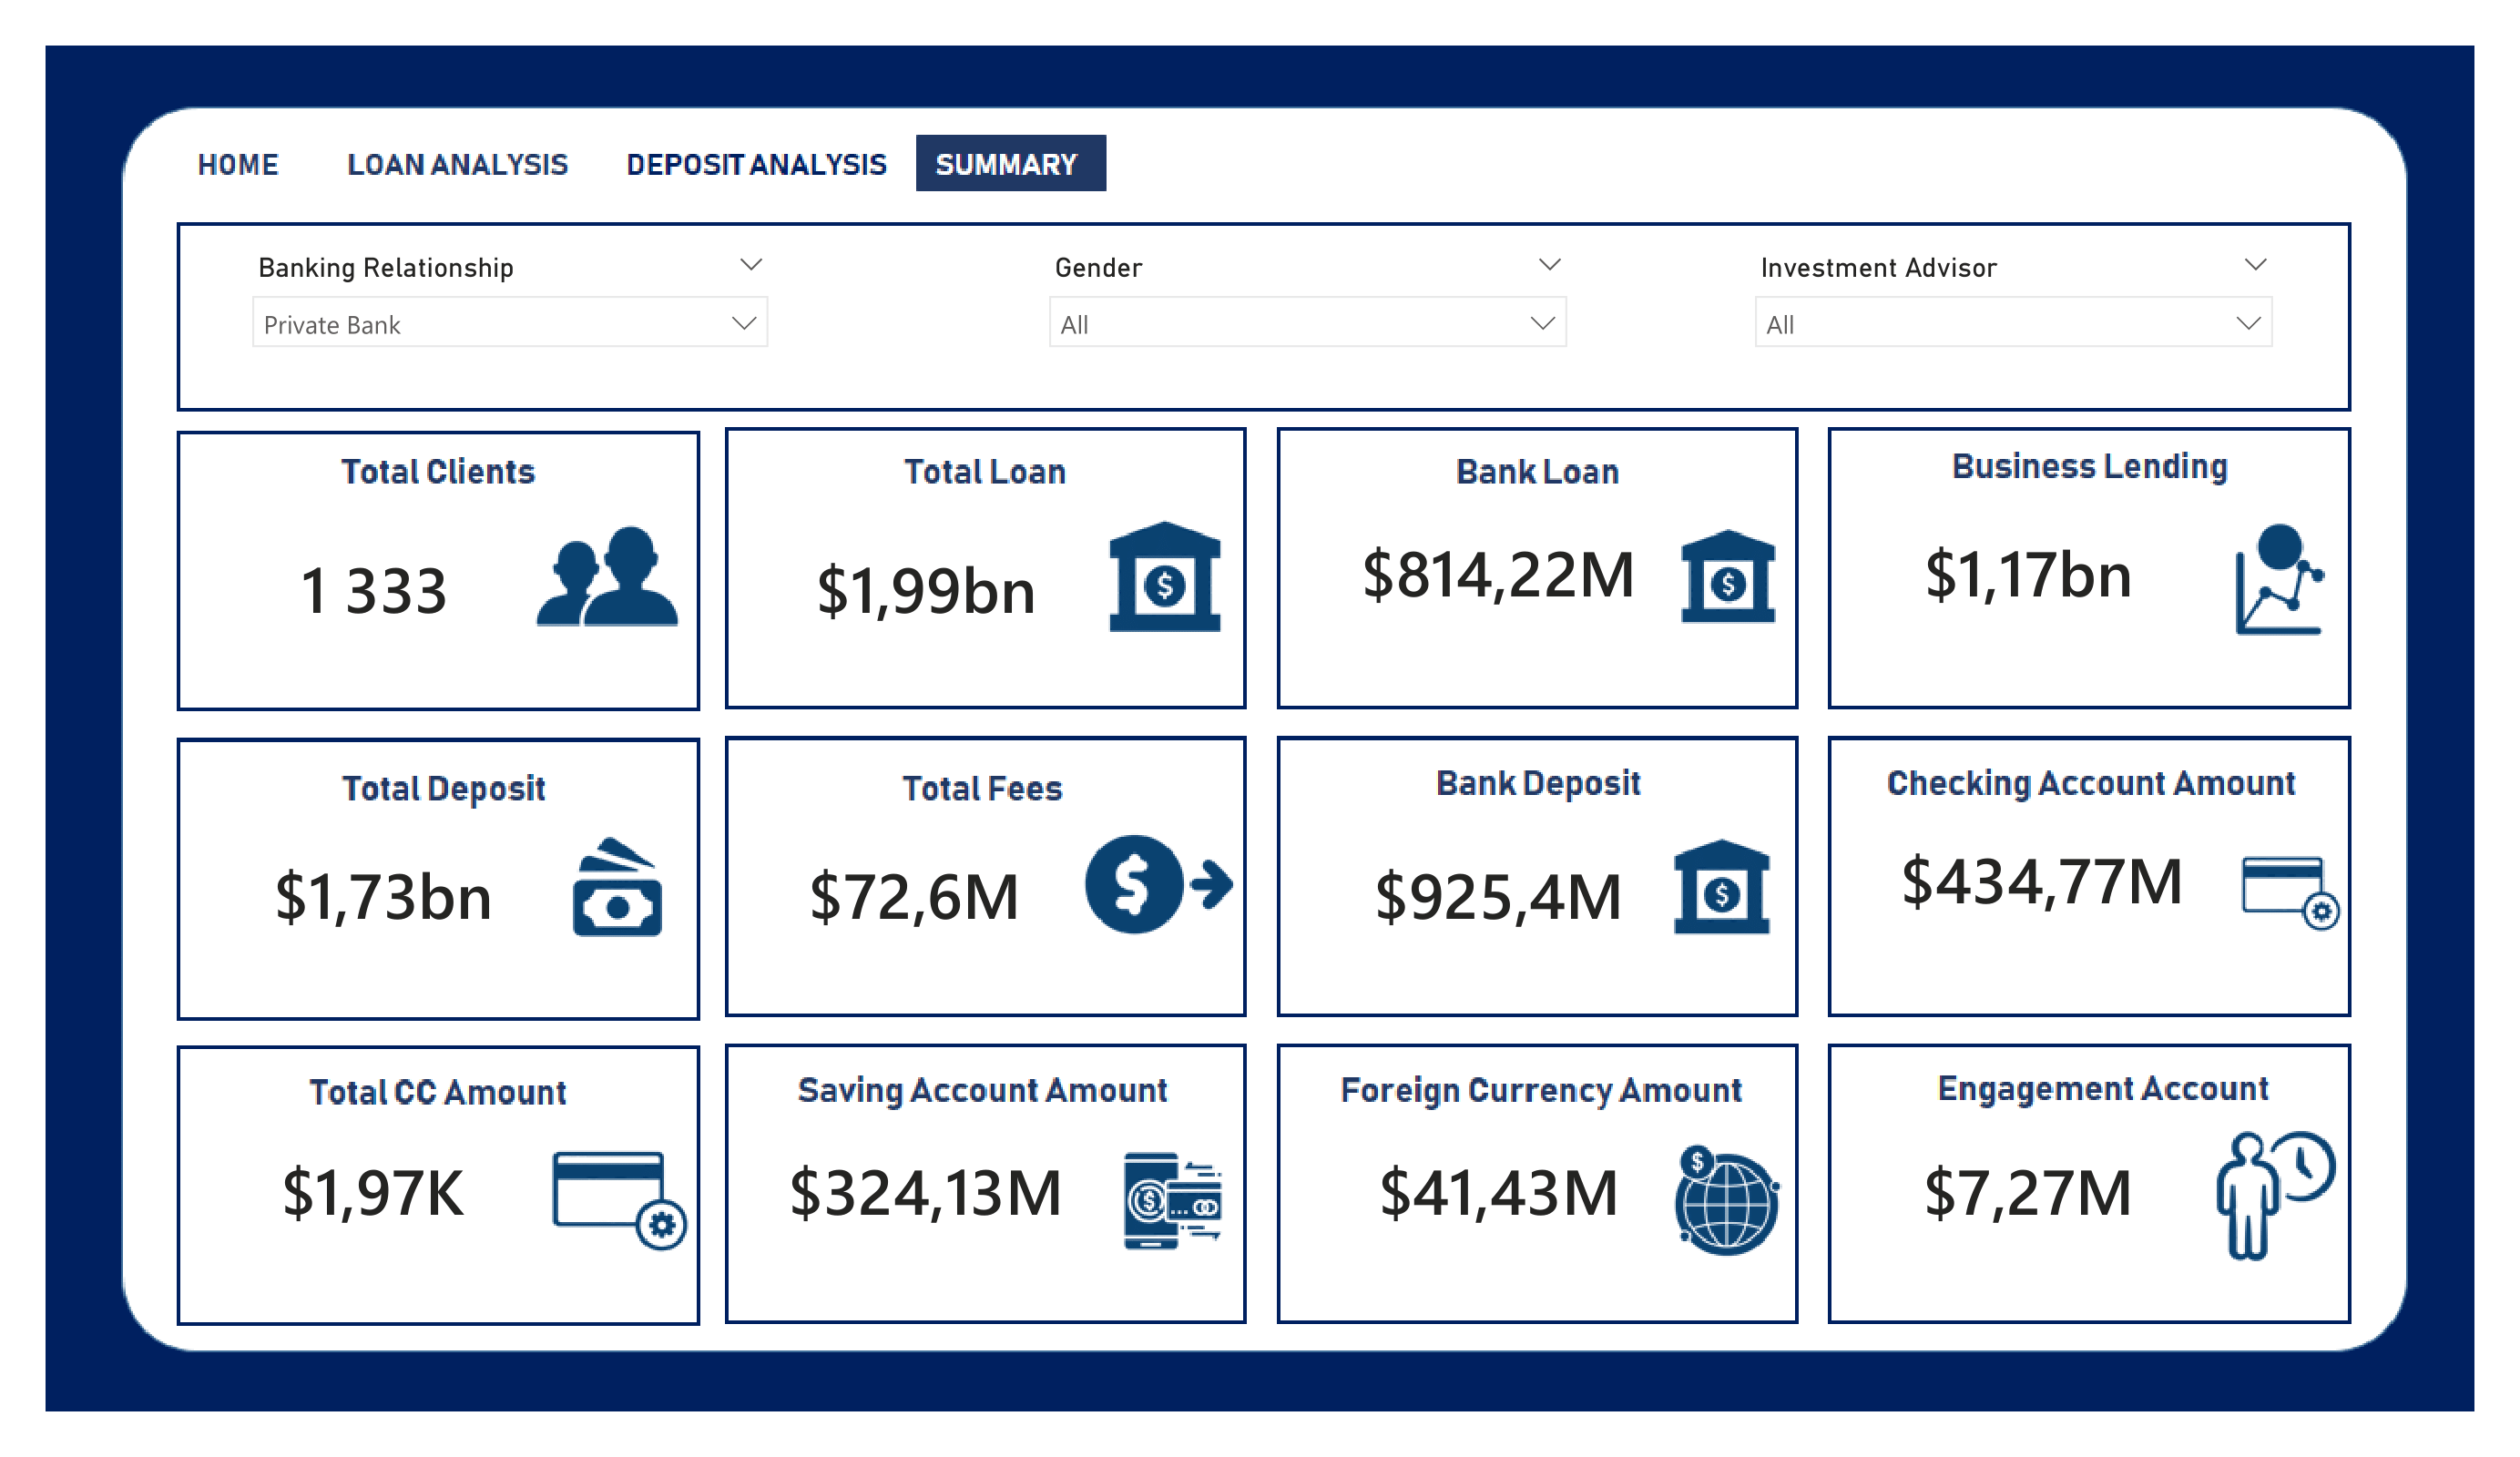

This screenshot's page, from the dashboard's own definition file:
{"tool":"powerbi","page":{"name":"Summary","canvas":[1280,720],"ordinal":3},"visuals":[{"type":"card","fields":{"Values":["DAX Measures.Engagment Length"]},"box":[946.3,546.4,198.2,114.9],"z":0},{"type":"card","fields":{"Values":["DAX Measures.Foreign Currency Account"]},"box":[667.2,546.4,198.2,114.9],"z":1000},{"type":"card","fields":{"Values":["DAX Measures.Bank Deposit"]},"box":[667.2,390.5,198.2,114.9],"z":2000},{"type":"card","fields":{"Values":["DAX Measures.Checking Accounts"]},"box":[953.4,382.3,198.2,114.9],"z":3000},{"type":"card","fields":{"Values":["DAX Measures.Bank Loan"]},"box":[667.2,220.5,198.2,114.9],"z":4000},{"type":"card","fields":{"Values":["DAX Measures.Business Lending"]},"box":[953.4,220.5,184.1,114.9],"z":5000},{"type":"card","fields":{"Values":["DAX Measures.Savings Account"]},"box":[360,546.4,207.6,114.9],"z":6000},{"type":"card","fields":{"Values":["DAX Measures.Total CC Amount"]},"box":[72.7,546.4,198.2,114.9],"z":7000},{"type":"card","fields":{"Values":["DAX Measures.Total Deposit"]},"box":[78.6,390.5,198.2,114.9],"z":8000},{"type":"card","fields":{"Values":["DAX Measures.Total Fees"]},"box":[365.9,390.5,184.1,114.9],"z":9000},{"type":"card","fields":{"Values":["DAX Measures.Total Clients"]},"box":[75,228.7,198.2,114.9],"z":10000},{"type":"card","fields":{"Values":["DAX Measures.Total Loan"]},"box":[365.9,228.7,195.8,114.9],"z":11000},{"type":"slicer","fields":{"Values":["Banking Relationship.Banking Relationship"]},"box":[98.5,104.3,292.9,75.7],"z":12000},{"type":"slicer","fields":{"Values":["Gender.Gender"]},"box":[518.9,104.3,292.9,75.7],"z":13000},{"type":"slicer","fields":{"Values":["Investment Advisor.Investment Advisor"]},"box":[891.3,104.3,292.9,75.7],"z":14000},{"type":"actionButton","box":[72.8,44.2,58.5,31],"z":16000},{"type":"actionButton","box":[306.9,44.7,119.4,31],"z":17000},{"type":"actionButton","box":[297.9,44.6,147.8,30.5],"z":18000},{"type":"actionButton","box":[157.1,44.6,125.5,30.5],"z":19000}]}

Visuals, with their boxes on the page's 1280x720 design canvas (x1, y1, x2, y2). These are canvas units, not pixel positions in the 2520x1457 screenshot, which may show the page scaled, cropped or inside an application window:
card - DAX Measures.Engagment Length: pyautogui.locateOnScreen(946, 546, 1144, 661)
card - DAX Measures.Foreign Currency Account: pyautogui.locateOnScreen(667, 546, 865, 661)
card - DAX Measures.Bank Deposit: pyautogui.locateOnScreen(667, 390, 865, 505)
card - DAX Measures.Checking Accounts: pyautogui.locateOnScreen(953, 382, 1152, 497)
card - DAX Measures.Bank Loan: pyautogui.locateOnScreen(667, 220, 865, 335)
card - DAX Measures.Business Lending: pyautogui.locateOnScreen(953, 220, 1138, 335)
card - DAX Measures.Savings Account: pyautogui.locateOnScreen(360, 546, 568, 661)
card - DAX Measures.Total CC Amount: pyautogui.locateOnScreen(73, 546, 271, 661)
card - DAX Measures.Total Deposit: pyautogui.locateOnScreen(79, 390, 277, 505)
card - DAX Measures.Total Fees: pyautogui.locateOnScreen(366, 390, 550, 505)
card - DAX Measures.Total Clients: pyautogui.locateOnScreen(75, 229, 273, 344)
card - DAX Measures.Total Loan: pyautogui.locateOnScreen(366, 229, 562, 344)
slicer - Banking Relationship.Banking Relationship: pyautogui.locateOnScreen(98, 104, 391, 180)
slicer - Gender.Gender: pyautogui.locateOnScreen(519, 104, 812, 180)
slicer - Investment Advisor.Investment Advisor: pyautogui.locateOnScreen(891, 104, 1184, 180)
actionButton: pyautogui.locateOnScreen(73, 44, 131, 75)
actionButton: pyautogui.locateOnScreen(307, 45, 426, 76)
actionButton: pyautogui.locateOnScreen(298, 45, 446, 75)
actionButton: pyautogui.locateOnScreen(157, 45, 283, 75)
